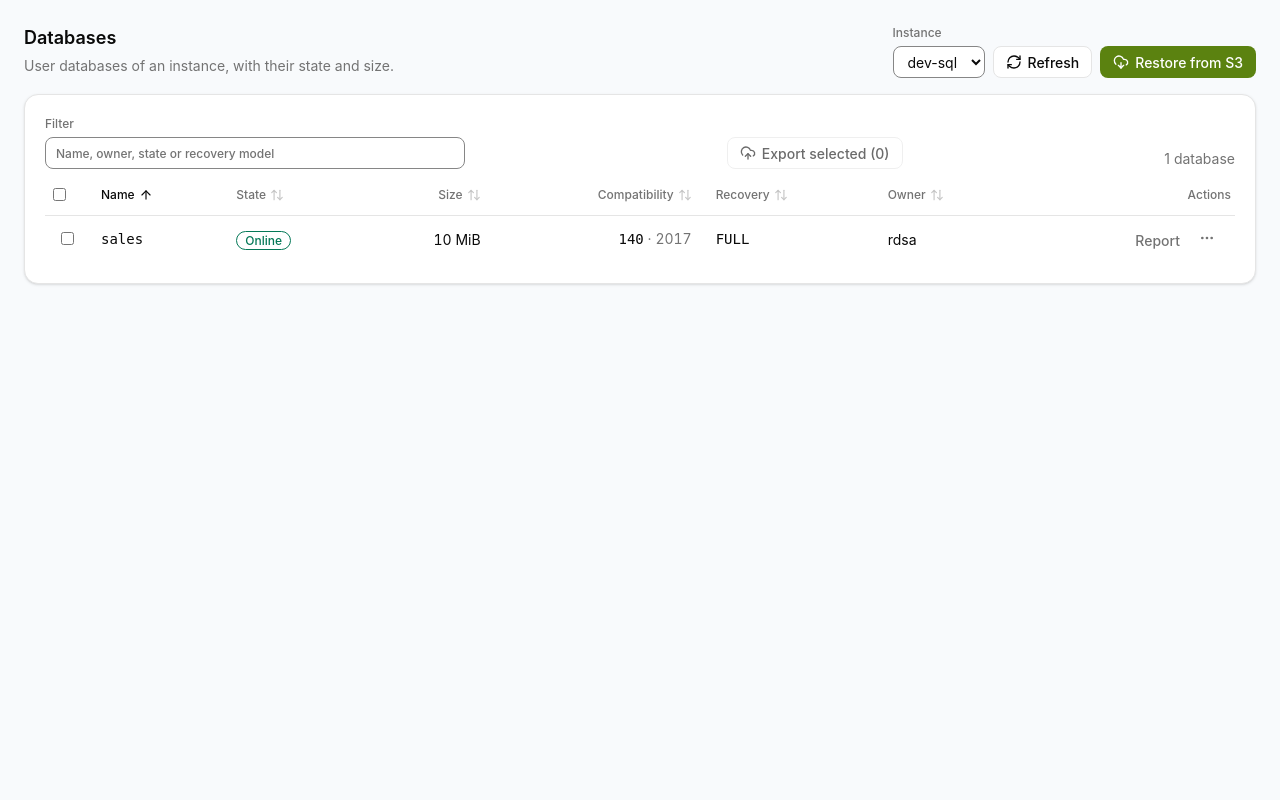
Test: the access panel › lists the users: orphans with a fix, users Dialga never changes read-only
Expected: the column heading "Actions" is shown, [1019,181,1235,215]
Click the button named "Actions for sales".
click(1207, 238)  # box [1191,224,1223,252]
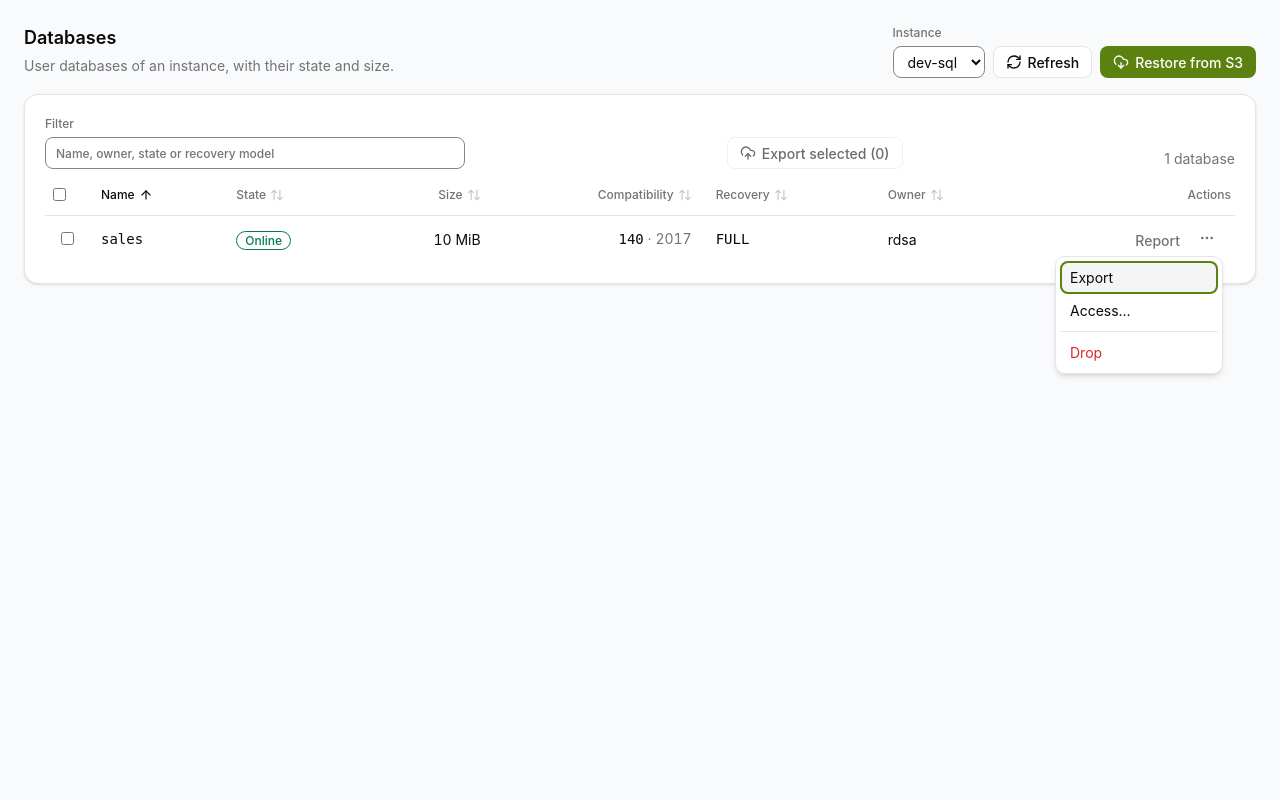
Now the menu is shown, box [1055,256,1223,374]
Click the menu item with aria-label "Access to sales".
click(1139, 310)  # box [1060,294,1218,327]
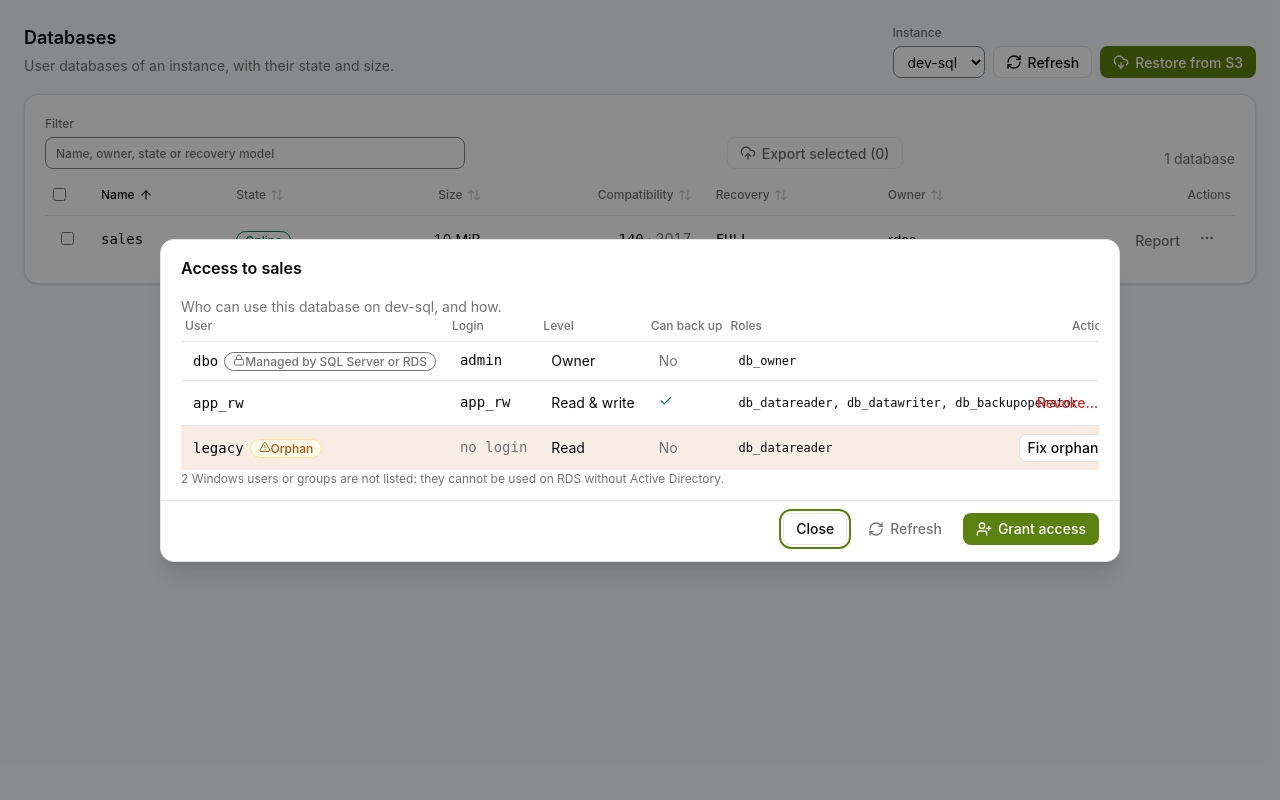
Now the table named "Users of sales" is shown, box [181,316,1099,470]
Now the text "Managed by SQL Server or RDS" is shown, box [224,352,436,370]
Now the text "app_rw" is shown 2 times, box [193,394,244,410]; [448,380,539,425]
